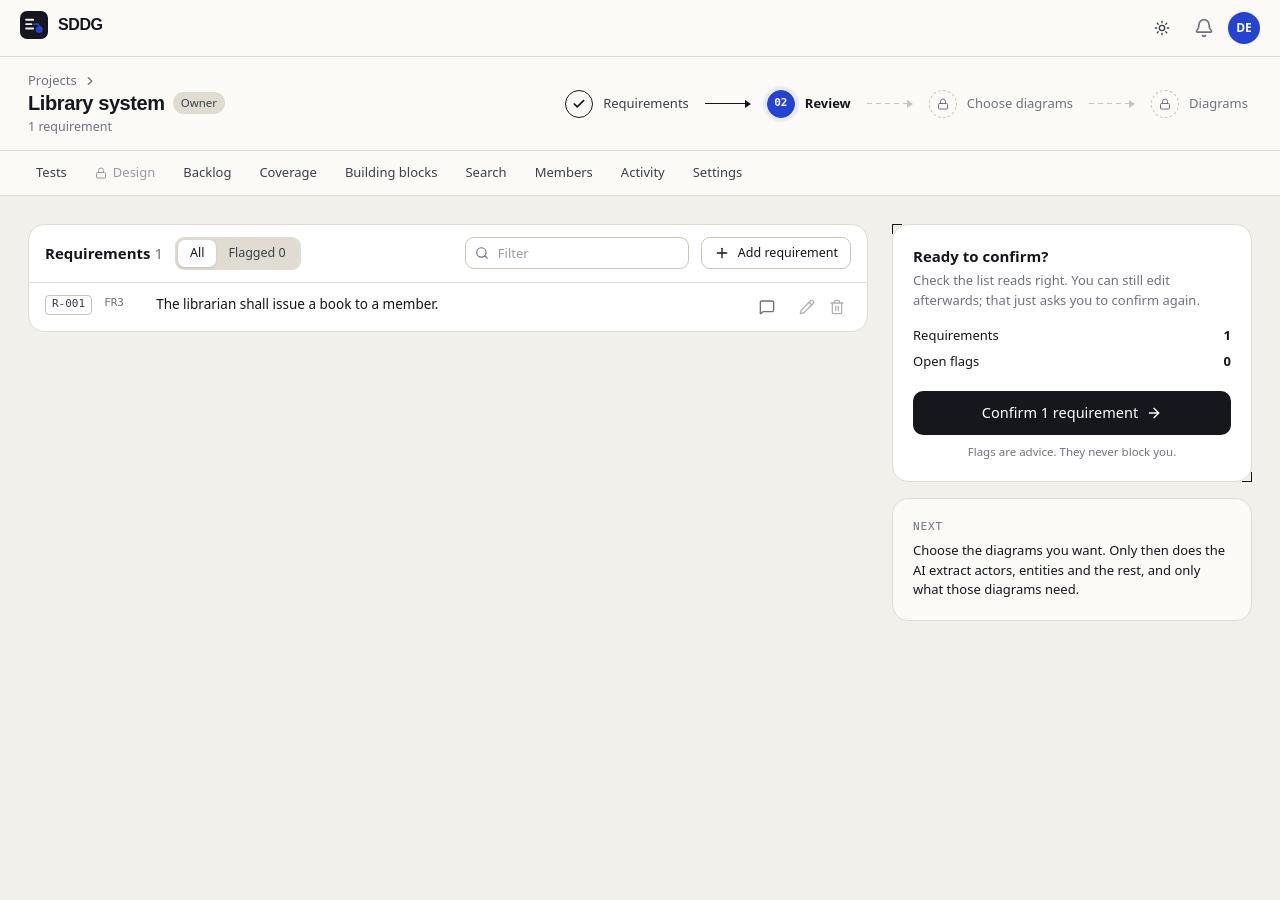
Scenario: Comments panel › posts a comment, counts it on the row, then resolves it
The image size is (1280, 900).
Click the button named "Comments on R-001": coordinates (767, 306) [753,292,781,320]
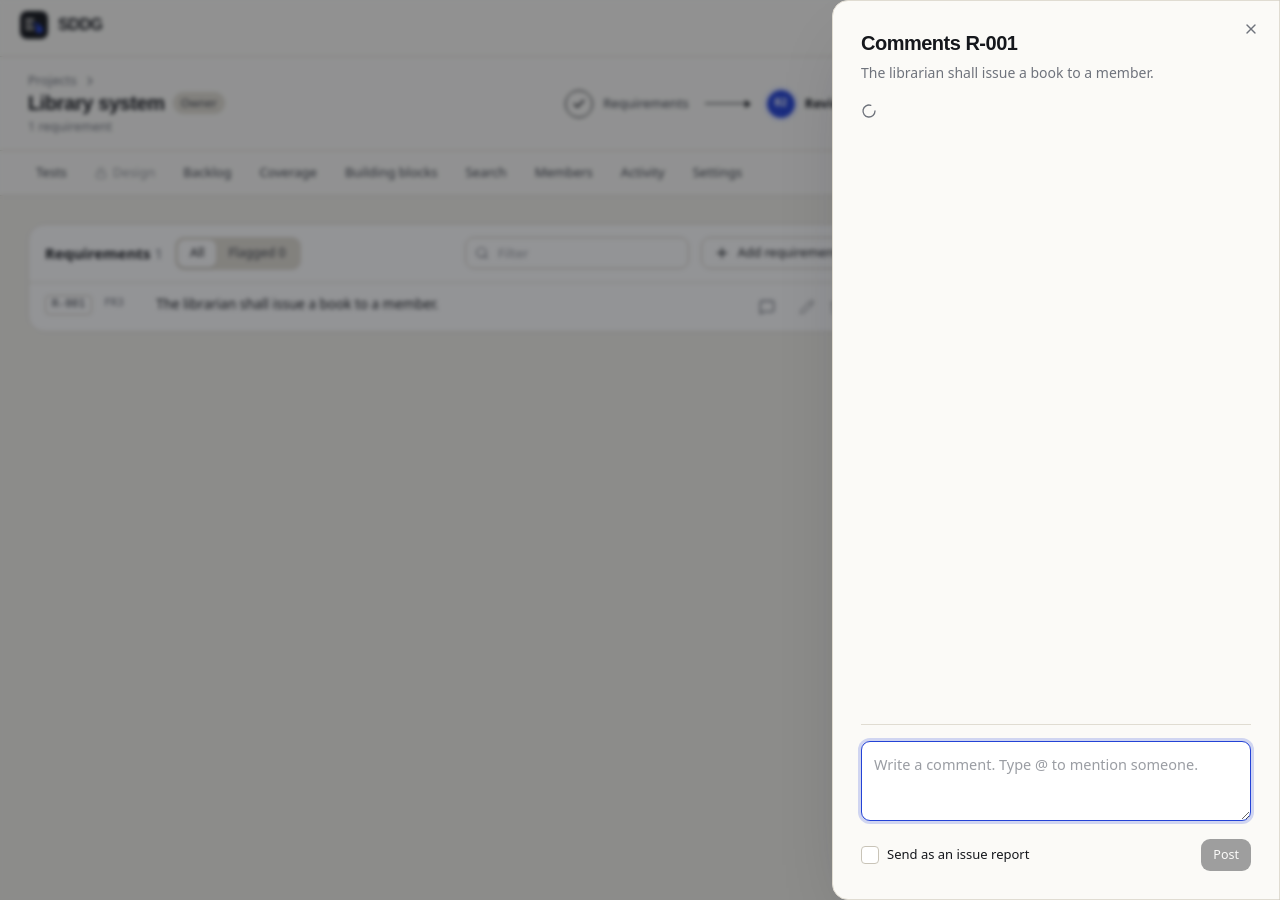
In the text box labelled "comment": coordinates (1056, 781) [861,741,1251,821], type "Should this say weekdays only?"
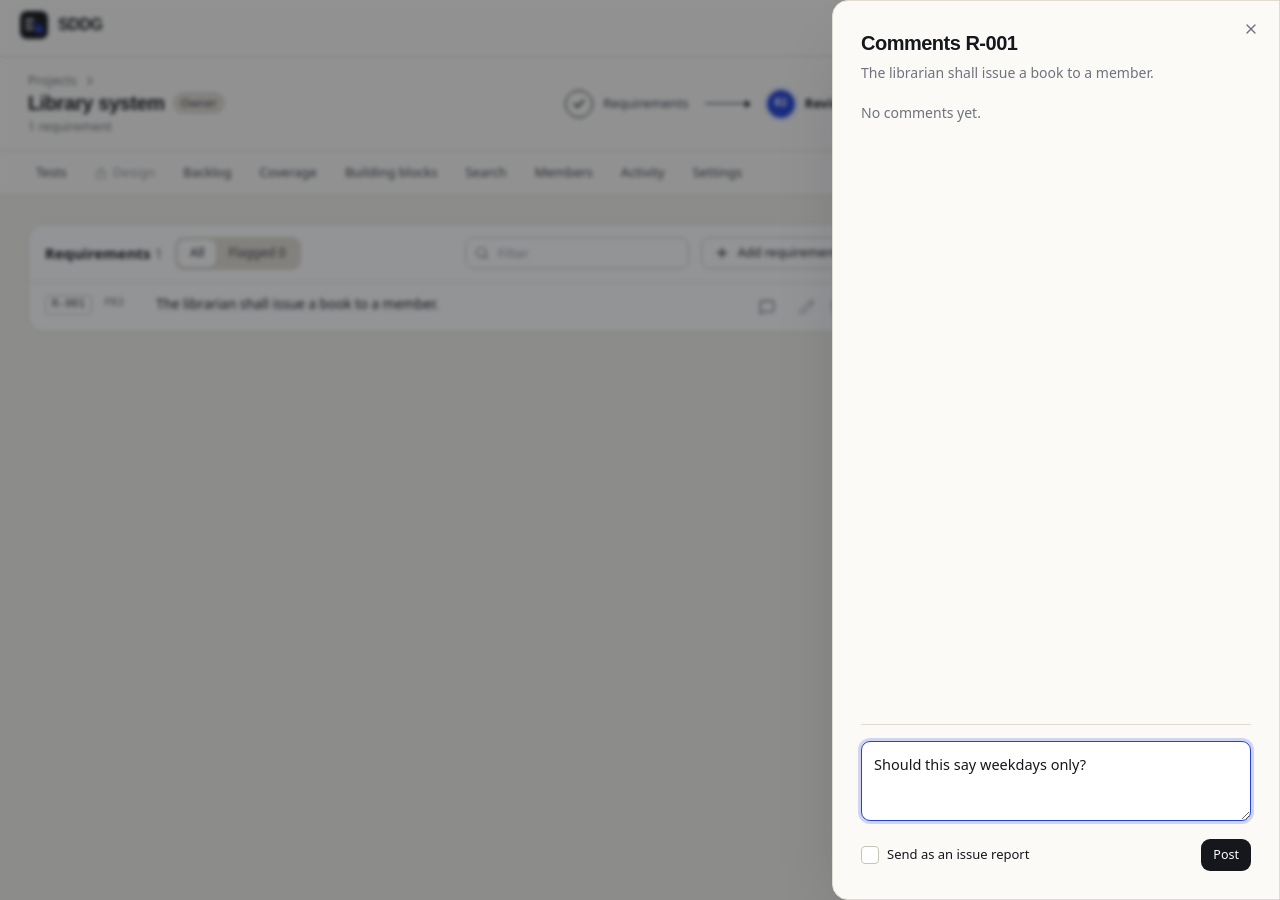
Click the button "Post": coordinates (1226, 855) [1201,839,1251,871]
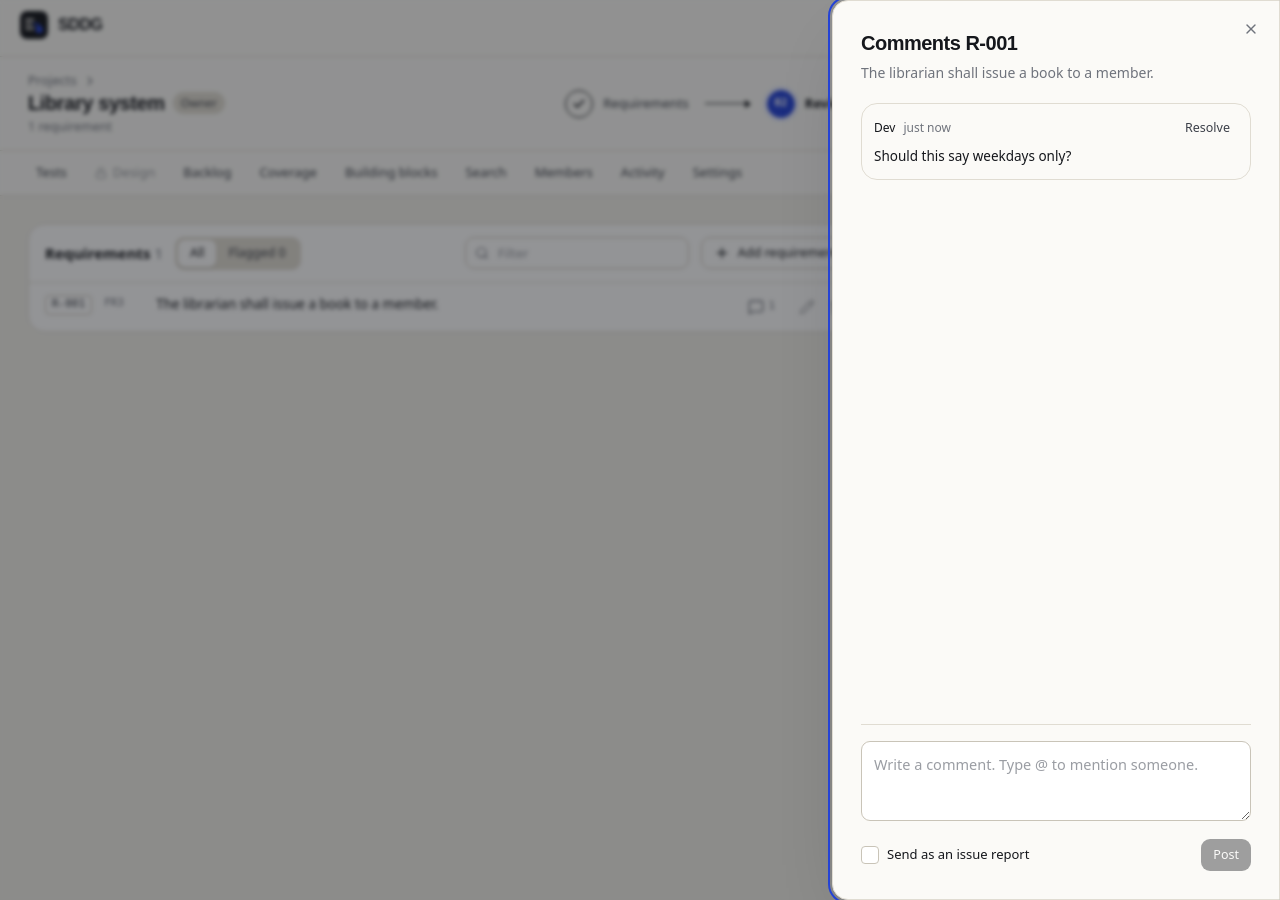
Expected: the button named "Comments on R-001 (1 open)" is shown, [742,292,781,320]
Now the text "Should this say weekdays only?" is shown, box [874,147,1072,165]
Now the text box labelled "comment" is empty, box [861,741,1251,821]
Click the button "Resolve": coordinates (1208, 128) [1177,116,1238,140]
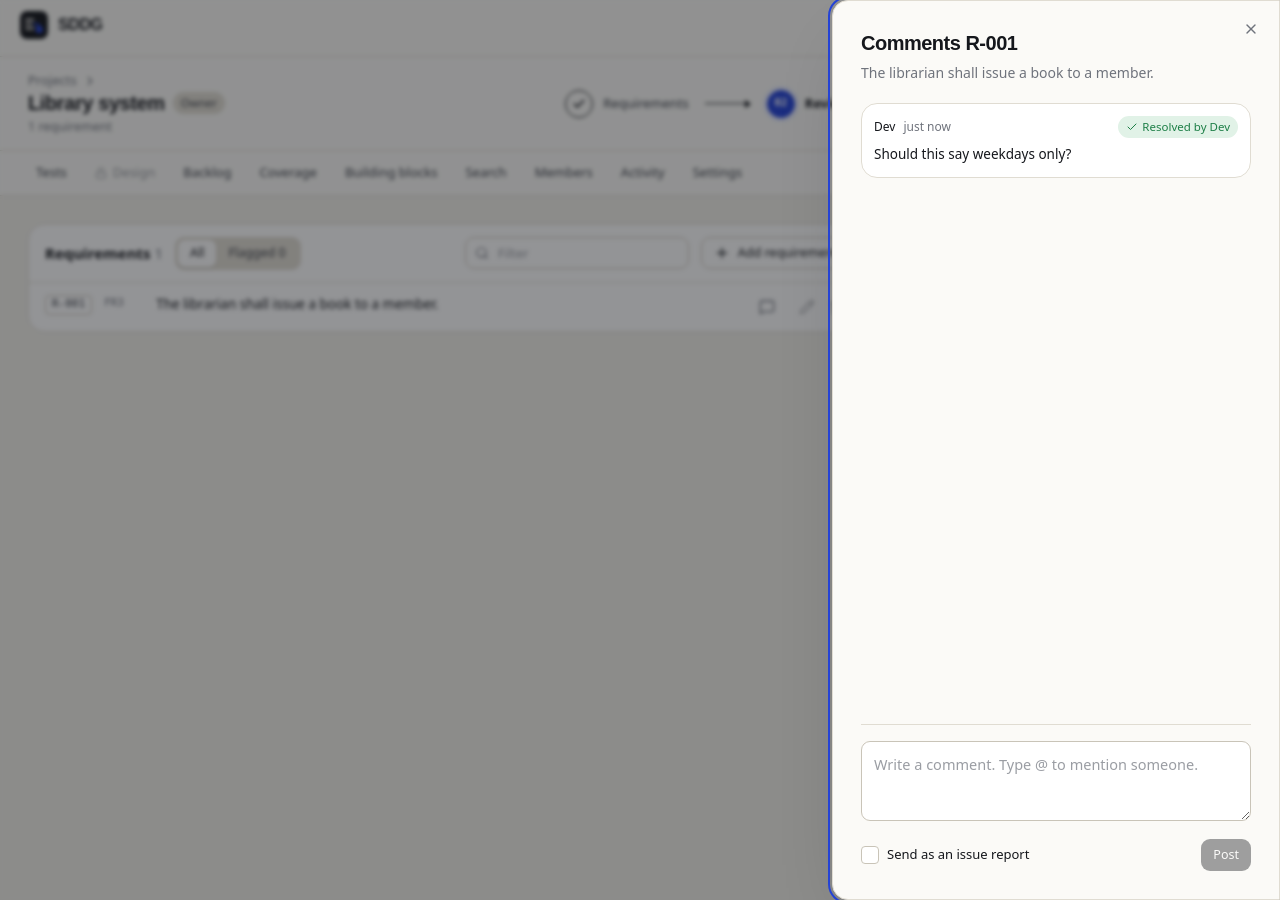
Now the text "Resolved by Dev" is shown, box [1118,116,1238,138]
